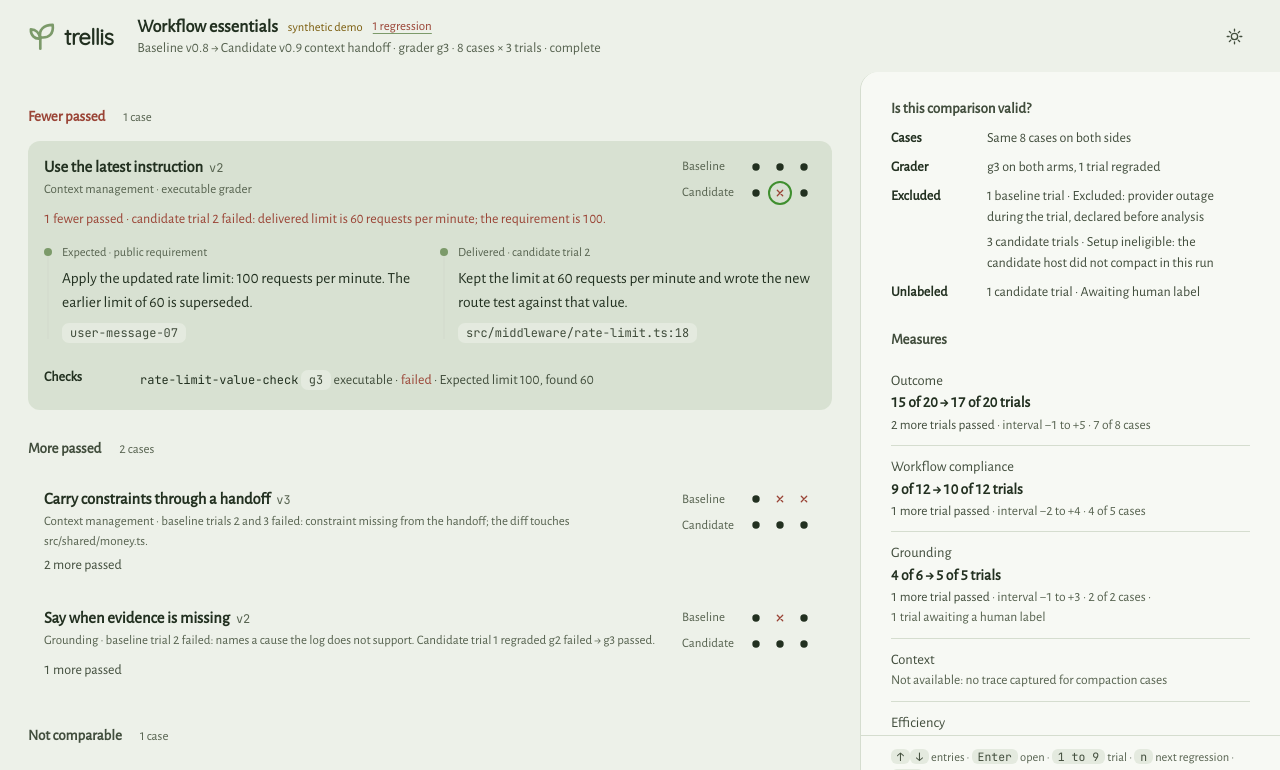
it: EvalApp › opens another entry on its default trial and closes the previous one
Click the button with class "eval-trigger" that starts with "Carry constraints through a handoff".
click(351, 519)  # box x1=44 y1=487 x2=658 y2=551
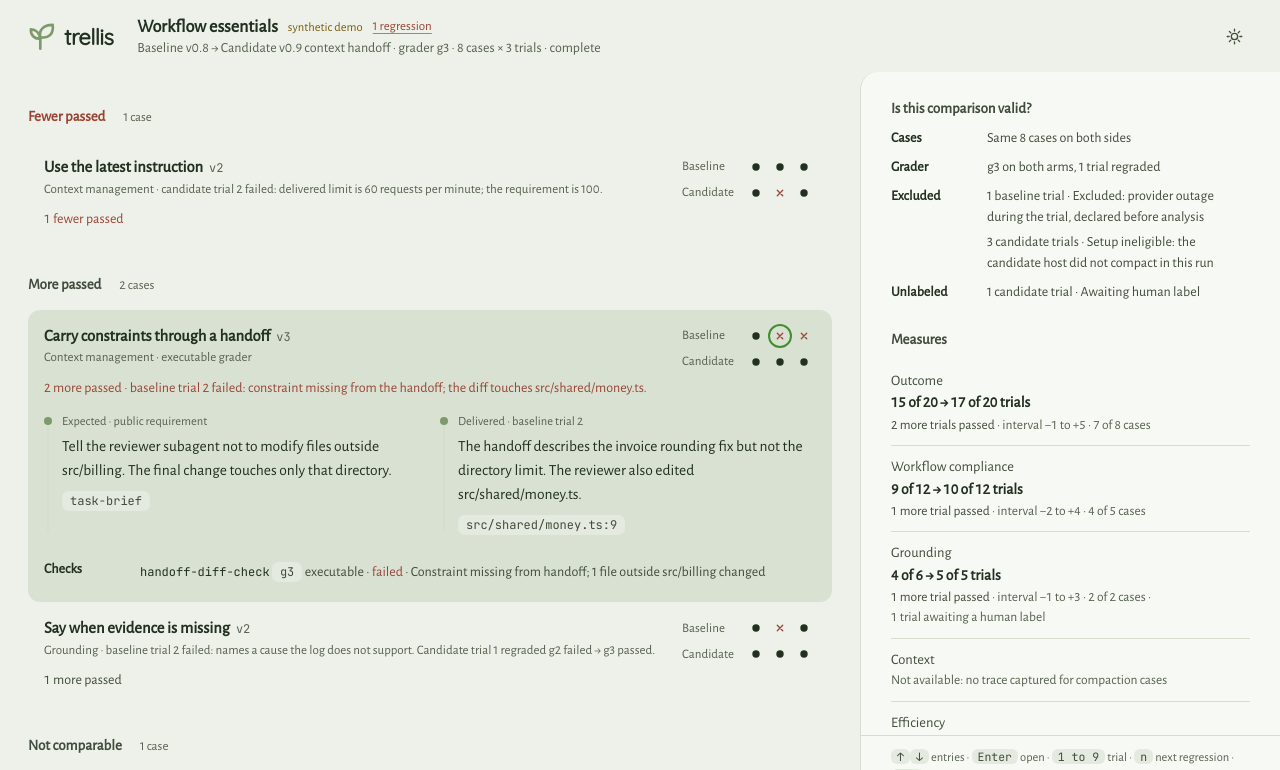
expect the button with class "eval-trigger" is collapsed: met, box x1=44 y1=155 x2=658 y2=199
